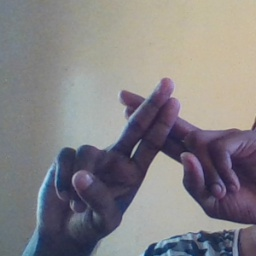F: (77, 70, 238, 205)
